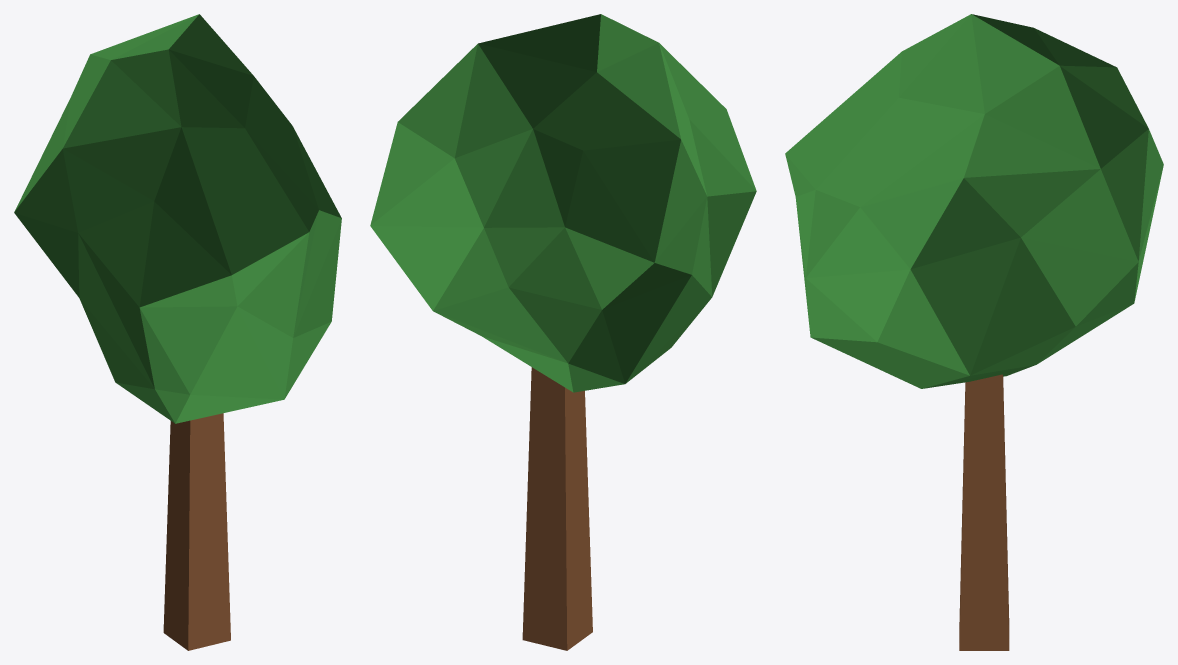
The model's file is tree_01.fbx.
The picture shows the model from 3 angles, left to right: view 1: azimuth 30°, elevation 25°; view 2: azimuth 150°, elevation 25°; view 3: azimuth 270°, elevation 25°; orthographic projection. The views are drawn at different scales.
Visible parts, largest first — view 1: tree_01; view 2: tree_01; view 3: tree_01.
Boxes of the visible parts, x1,y1,x2,y2 form: tree_01: [14, 14, 341, 650]; tree_01: [370, 14, 756, 650]; tree_01: [785, 14, 1163, 650].
Bounding box in the file's own units: 147 × 318 × 179.
Materials: 1 (1 with a texture image).
